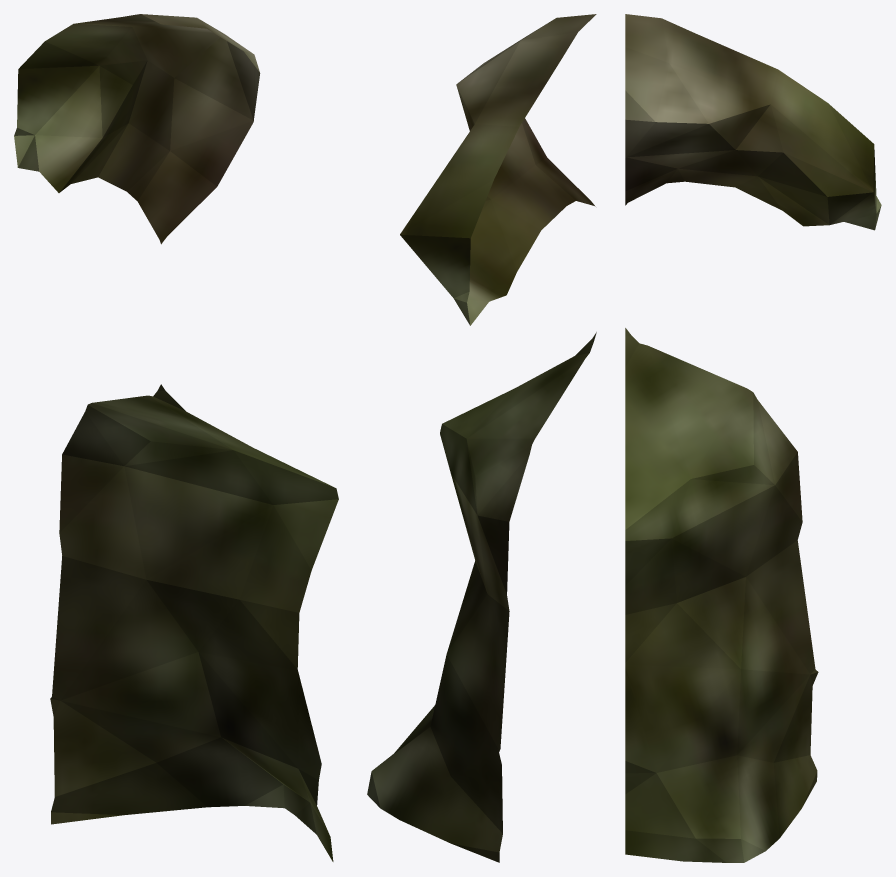
3 renders of one model, left to right at view 1: azimuth 30°, elevation 25°; view 2: azimuth 150°, elevation 25°; view 3: azimuth 270°, elevation 25°, orthographic. The views are drawn at different scales.
Bounding box in the file's own units: 0.0909 × 0.3979 × 0.1204.
Materials: 1 (1 with a texture image).
